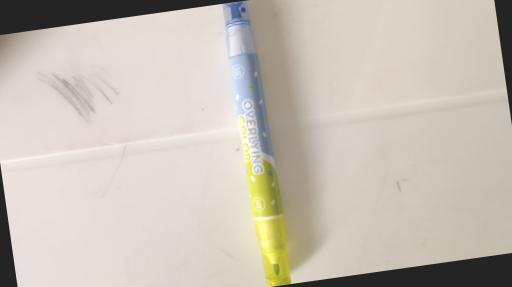Highlighter: (223, 0, 292, 287)
